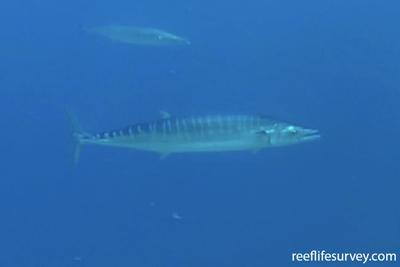Scombridae -Tunas-: (56, 101, 328, 168)
